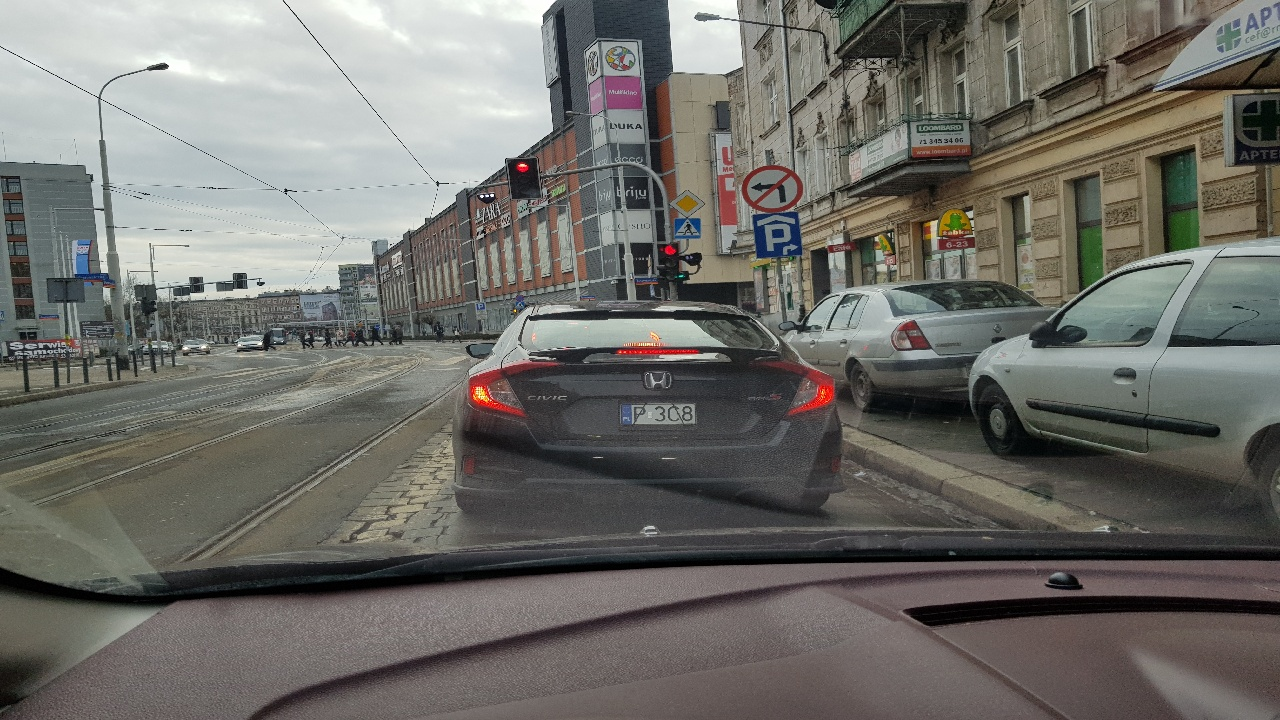B21: (743, 165, 803, 213)
D1: (670, 190, 705, 217)
D18: (752, 213, 802, 257)
D6: (674, 217, 701, 239)
Red: (517, 159, 531, 195), (665, 244, 676, 280)
